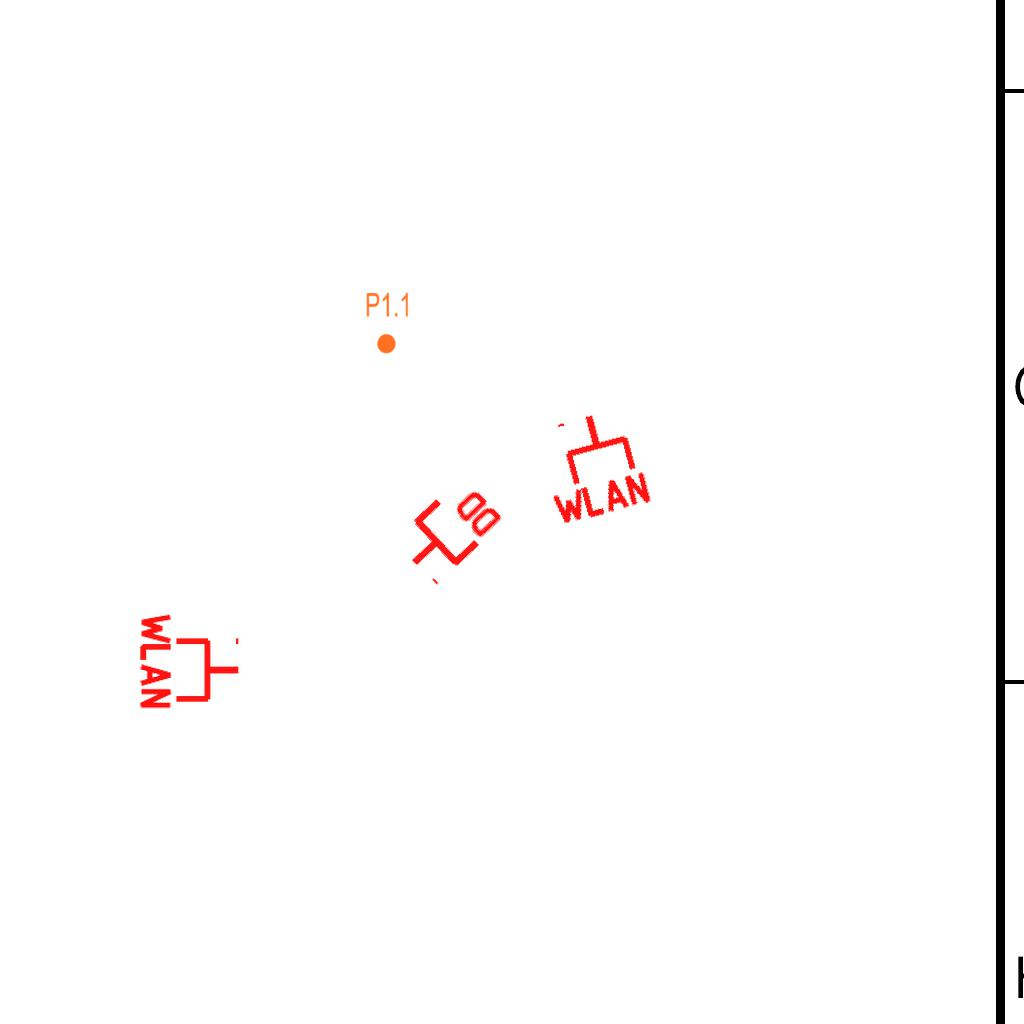Datenanschluss_zweifach: (387, 468, 510, 589)
Downlight_LED_Einbauleuchten_Flur: (365, 291, 411, 355)
WLAN: (528, 400, 657, 530), (138, 609, 243, 713)
